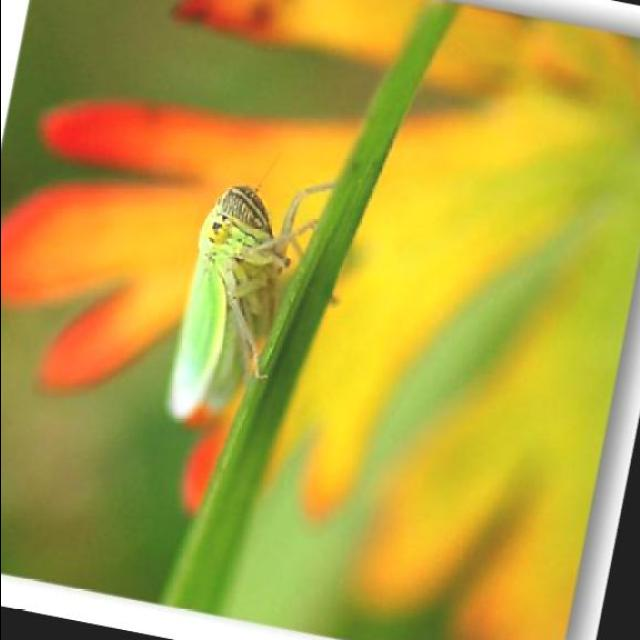green leaf hopper: (166, 184, 331, 422)
